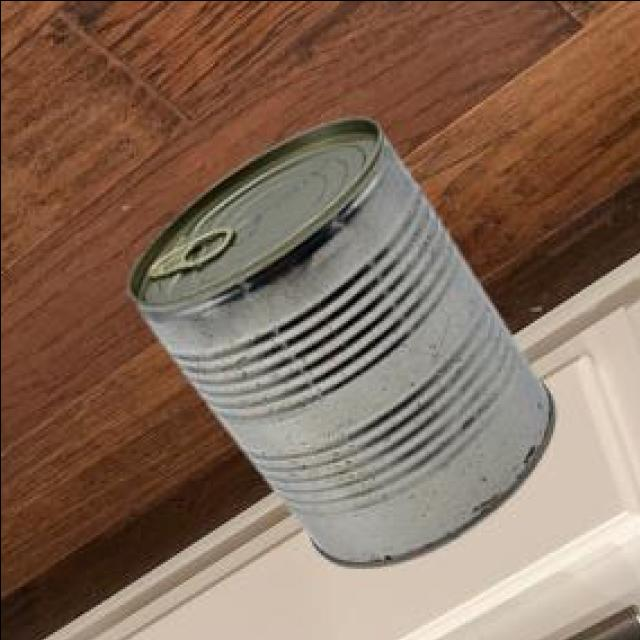logam: (132, 121, 558, 569)
